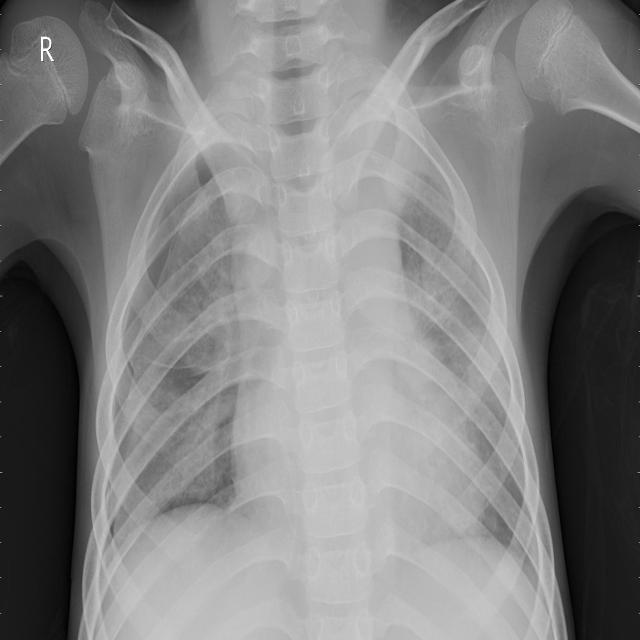low-pneumonia: (153, 367, 228, 509), (416, 262, 495, 395), (192, 234, 244, 372), (377, 112, 442, 218)
